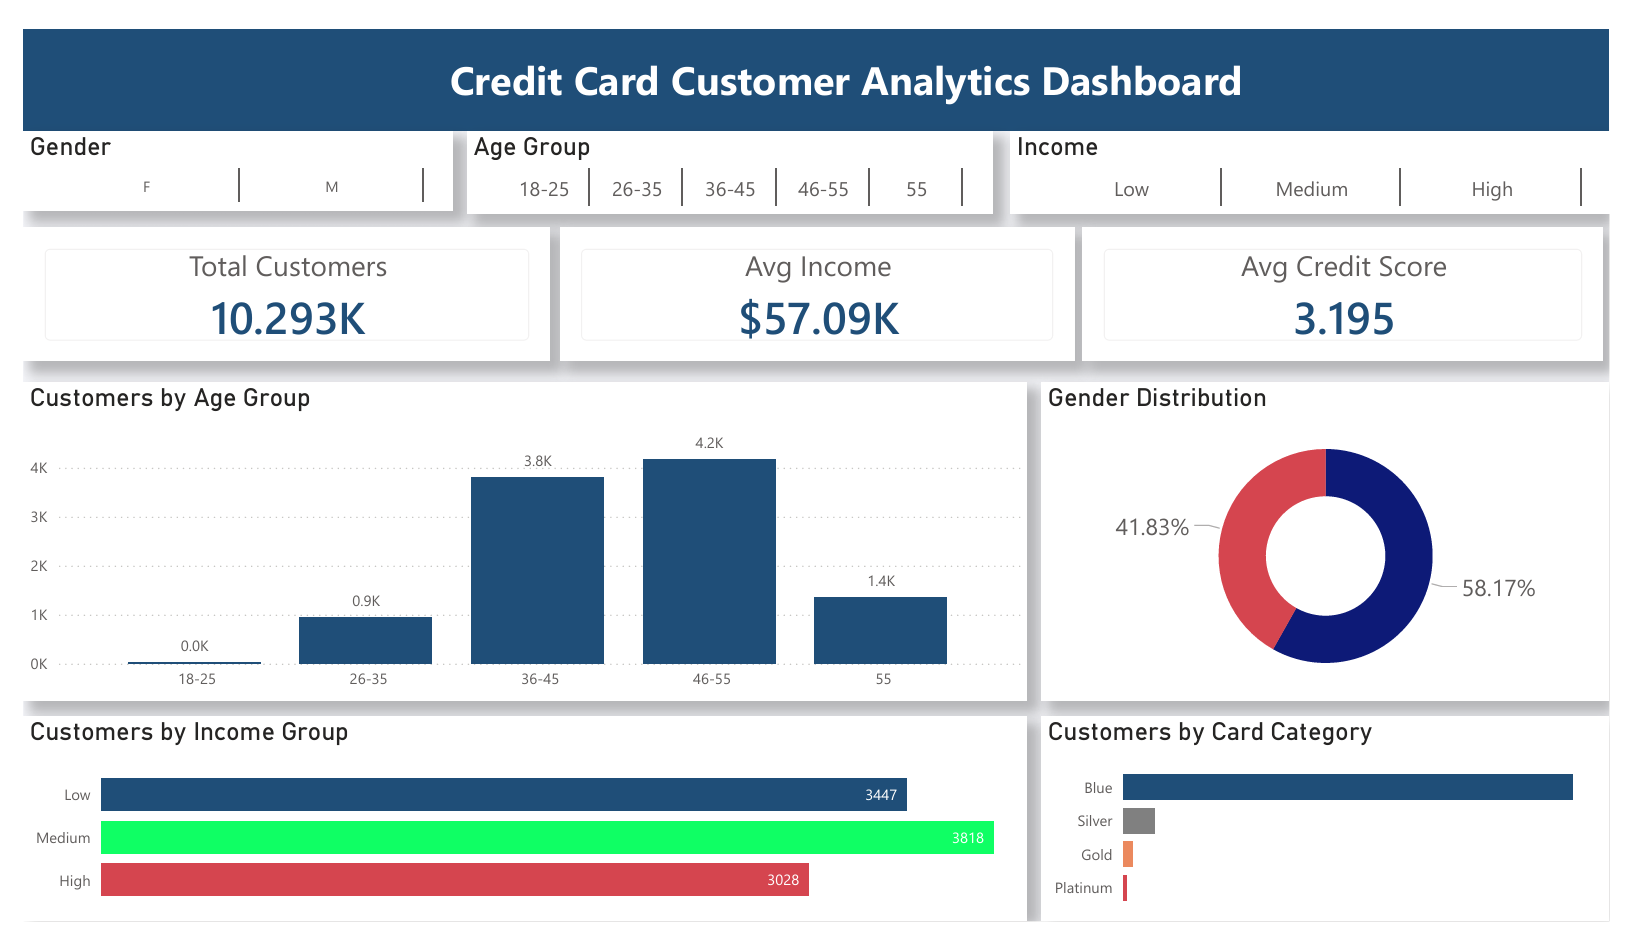

This screenshot's page, from the dashboard's own definition file:
{"tool":"powerbi","page":{"name":"Credit Card Customer Analytics Dashboard","canvas":[1280,720],"ordinal":0},"visuals":[{"type":"shape","box":[0,0,1280,81.7],"z":0},{"type":"textbox","box":[298.3,13.3,731.7,56.7],"z":1000},{"type":"slicer","title":"Gender","fields":{"Values":["customer.Gender"]},"box":[0,81.6,347.2,64],"z":2000},{"type":"slicer","title":"Age Group","fields":{"Values":["customer.AgeGroup"]},"box":[358.4,81.6,424,67.2],"z":3000},{"type":"slicer","title":"Income","fields":{"Values":["customer.IncomeGroup"]},"box":[796.8,81.6,484.8,67.2],"z":4000},{"type":"cardVisual","fields":{"Data":["customer.Total Customers"]},"box":[0,160,425,108.3],"z":5000},{"type":"cardVisual","fields":{"Data":["customer.Avg Income"]},"box":[433.3,160,415,108.3],"z":6000},{"type":"cardVisual","fields":{"Data":["customer.Avg Credit Score"]},"box":[855,160,420,108.3],"z":7000},{"type":"clusteredColumnChart","title":"Customers by Age Group","fields":{"Category":["customer.AgeGroup"],"Y":["customer.Total Customers"]},"box":[0,285,810,256.7],"z":8000},{"type":"donutChart","title":"Gender Distribution","fields":{"Category":["customer.Gender"],"Y":["customer.Total Customers"]},"box":[821.7,285,458.3,256.7],"z":9000},{"type":"barChart","title":"Customers by Income Group","fields":{"Y":["customer.Total Customers"],"Category":["customer.IncomeGroup"]},"box":[0,555,810,165],"z":10000},{"type":"barChart","title":"Customers by Card Category","fields":{"Category":["CreditCard.Card_Category"],"Y":["customer.Customers by Category"]},"box":[822,555,458,165],"z":11000}]}

Visuals, with their boxes on the page's 1280x720 design canvas (x1, y1, x2, y2). These are canvas units, not pixel positions in the 1638x951 screenshot, which may show the page scaled, cropped or inside an application window:
shape: {"left": 0, "top": 0, "right": 1280, "bottom": 82}
textbox: {"left": 298, "top": 13, "right": 1030, "bottom": 70}
"Gender" slicer: {"left": 0, "top": 82, "right": 347, "bottom": 146}
"Age Group" slicer: {"left": 358, "top": 82, "right": 782, "bottom": 149}
"Income" slicer: {"left": 797, "top": 82, "right": 1282, "bottom": 149}
cardVisual - customer.Total Customers: {"left": 0, "top": 160, "right": 425, "bottom": 268}
cardVisual - customer.Avg Income: {"left": 433, "top": 160, "right": 848, "bottom": 268}
cardVisual - customer.Avg Credit Score: {"left": 855, "top": 160, "right": 1275, "bottom": 268}
"Customers by Age Group" clusteredColumnChart: {"left": 0, "top": 285, "right": 810, "bottom": 542}
"Gender Distribution" donutChart: {"left": 822, "top": 285, "right": 1280, "bottom": 542}
"Customers by Income Group" barChart: {"left": 0, "top": 555, "right": 810, "bottom": 720}
"Customers by Card Category" barChart: {"left": 822, "top": 555, "right": 1280, "bottom": 720}
